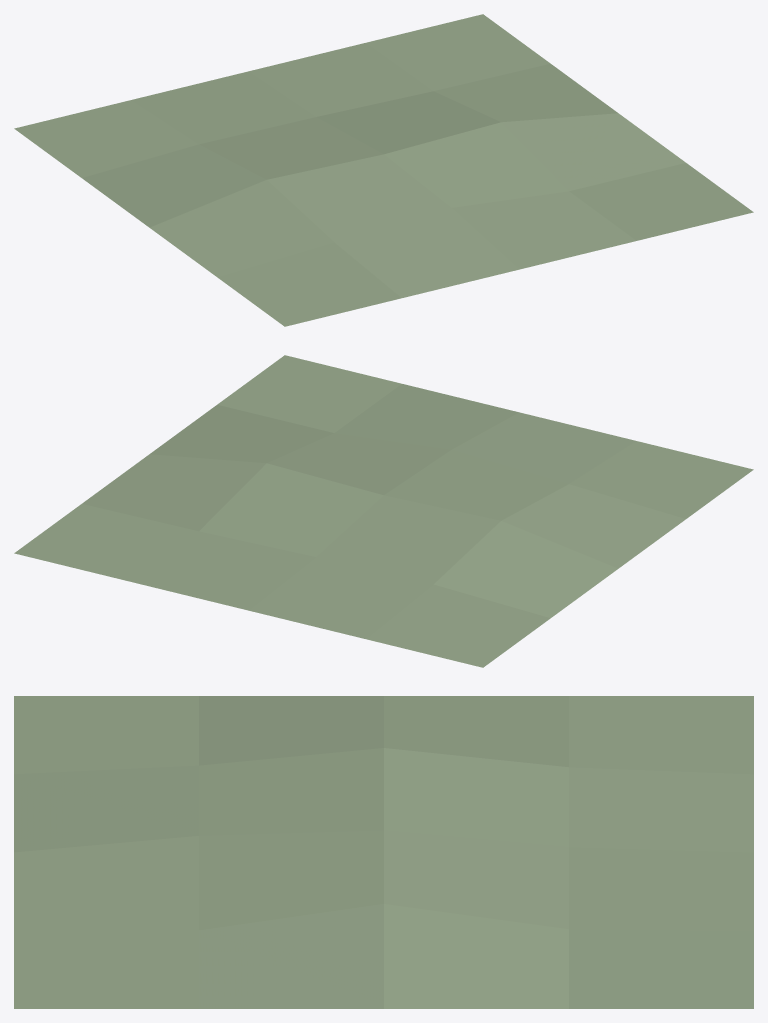
The model's file is Tile_31_Swamp.glb.
3 views of the same model, one above another, from view 1: azimuth 30°, elevation 25°; view 2: azimuth 150°, elevation 25°; view 3: azimuth 270°, elevation 25° (orthographic). The views are drawn at different scales.
Visible parts, largest first — view 1: Tile_Swamp; view 2: Tile_Swamp; view 3: Tile_Swamp.
Part boxes in pixels (left/top/right/bottom): Tile_Swamp: left=14, top=14, right=753, bottom=326; Tile_Swamp: left=14, top=355, right=753, bottom=667; Tile_Swamp: left=14, top=696, right=753, bottom=1008.
Bounding box in the file's own units: 0.2 × 0.00799 × 0.2.
